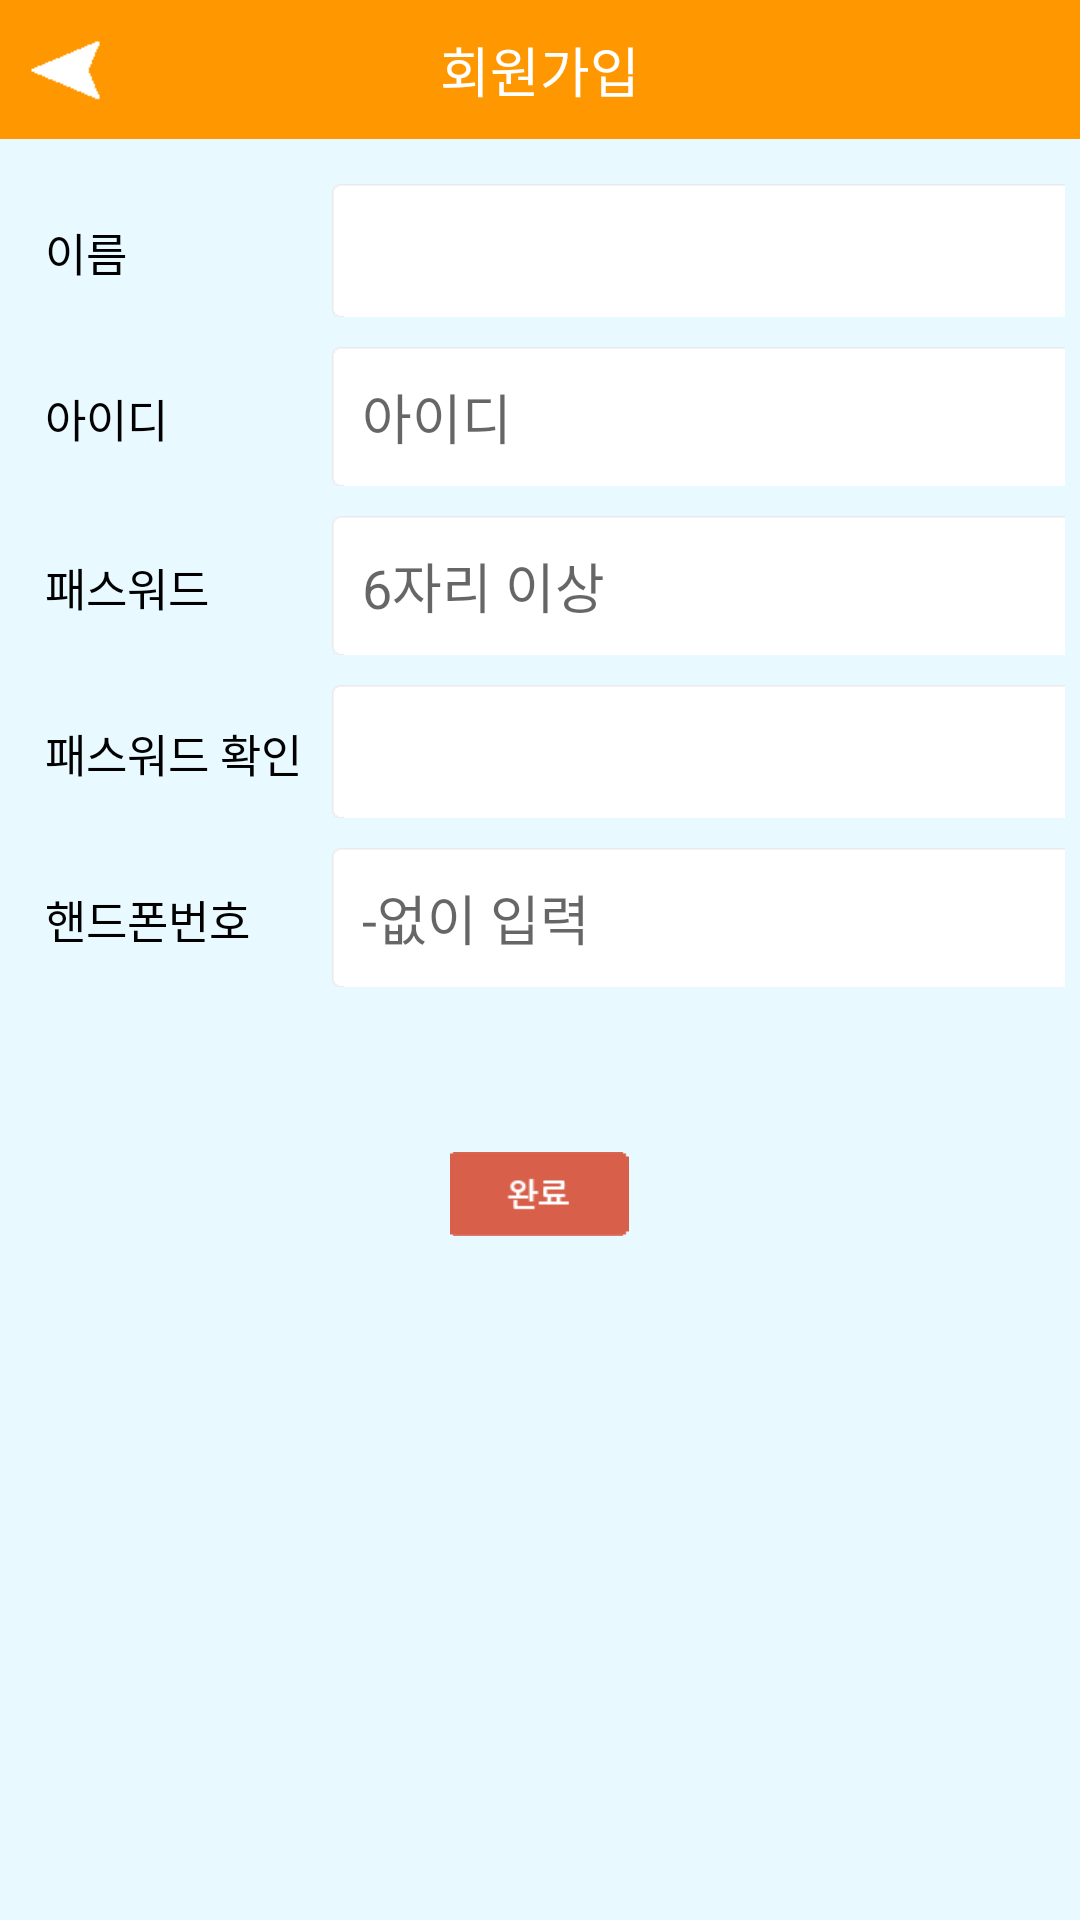

Screen size 1080*1920. Icon name, then its box in pixels as (x1, y1, x2, y2):
back: (31, 41, 100, 100)
